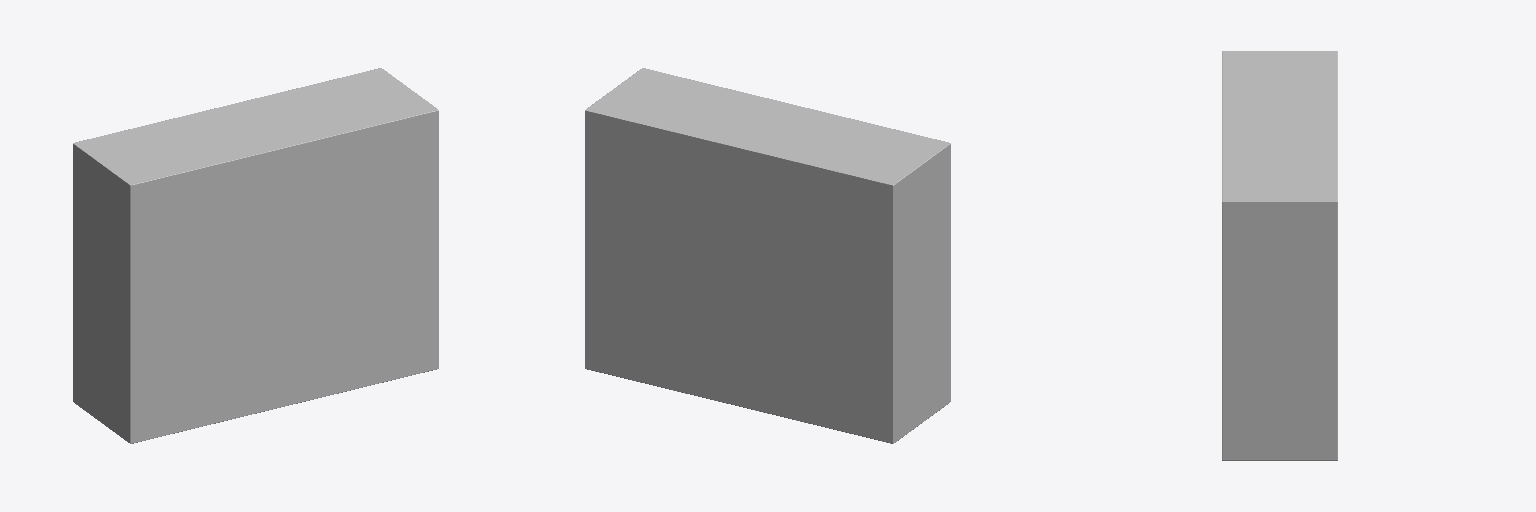
Rendered from Block_Mur.obj.
3 renders of one model, left to right at view 1: azimuth 30°, elevation 25°; view 2: azimuth 150°, elevation 25°; view 3: azimuth 270°, elevation 25°, orthographic.
Parts seen in each view (by area): view 1: Block_Mur_Cube.006; view 2: Block_Mur_Cube.006; view 3: Block_Mur_Cube.006.
Part boxes in pixels (x1,y1,x2,y2): Block_Mur_Cube.006: (73,68,438,443); Block_Mur_Cube.006: (585,68,950,443); Block_Mur_Cube.006: (1222,51,1337,460).
Bounding box in the file's own units: 6.15 × 4.92 × 2.